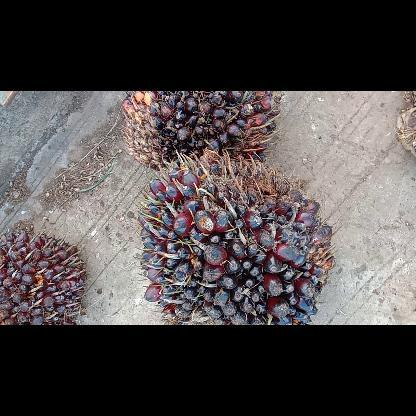TBS mentah: (140, 152, 332, 324), (122, 92, 286, 170), (0, 232, 86, 324)
